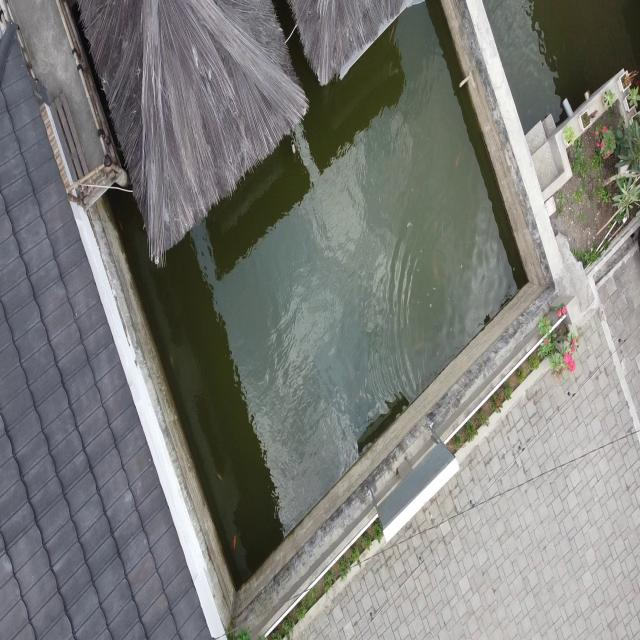Ponds: (87, 1, 546, 614)
